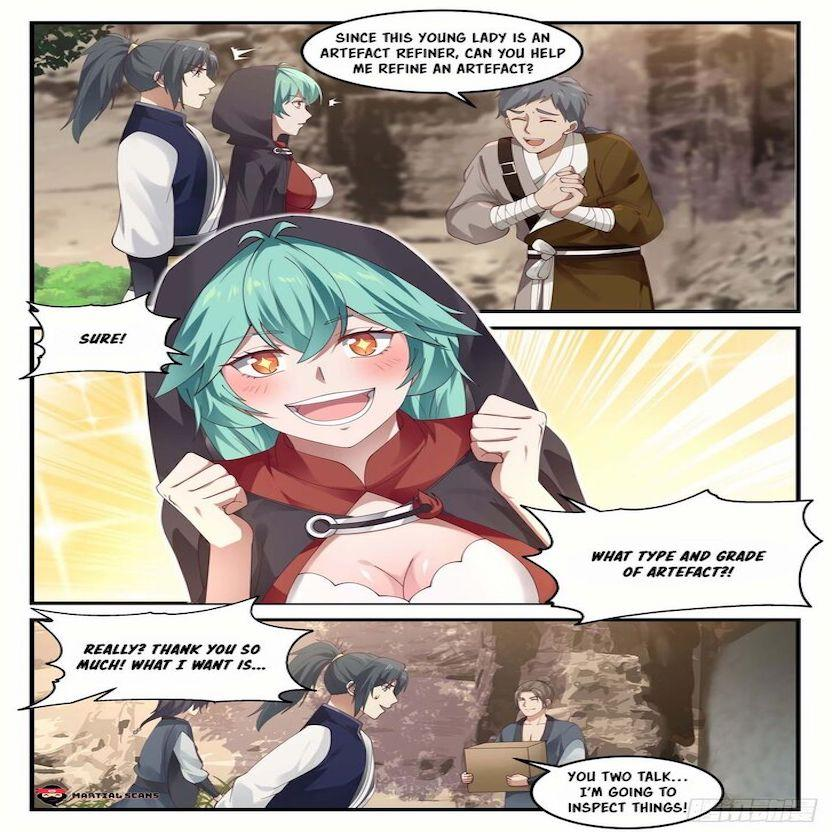Bubble: (519, 486, 824, 628), (29, 594, 317, 705), (298, 6, 587, 97), (528, 751, 726, 832), (23, 299, 180, 378)
